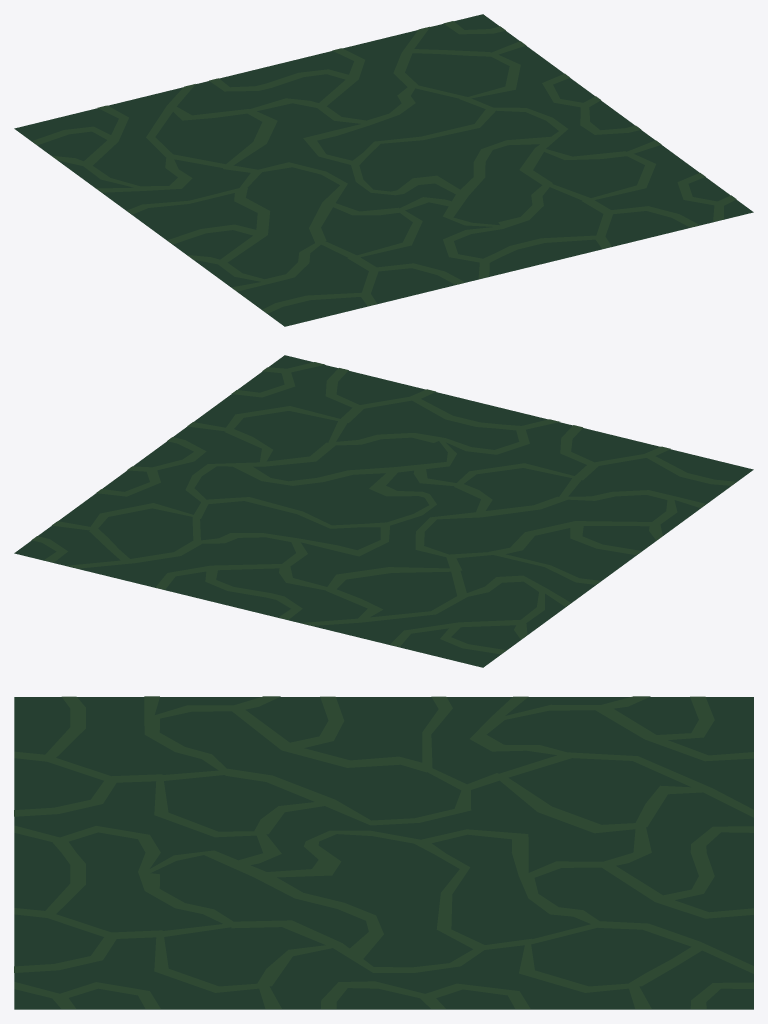
File: waterOcean.fbx
The picture shows the model from 3 angles, top to bottom: view 1: azimuth 30°, elevation 25°; view 2: azimuth 150°, elevation 25°; view 3: azimuth 270°, elevation 25°; orthographic projection. The views are drawn at different scales.
Parts seen in each view (by area): view 1: Mesh_OceanWater; view 2: Mesh_OceanWater; view 3: Mesh_OceanWater.
Part boxes in pixels (x1=…): Mesh_OceanWater: x1=14, y1=14, x2=753, y2=326; Mesh_OceanWater: x1=14, y1=355, x2=753, y2=667; Mesh_OceanWater: x1=14, y1=696, x2=753, y2=1009.
Size of the model in its own units: 12.01 by 12.01 by 0.0109.
